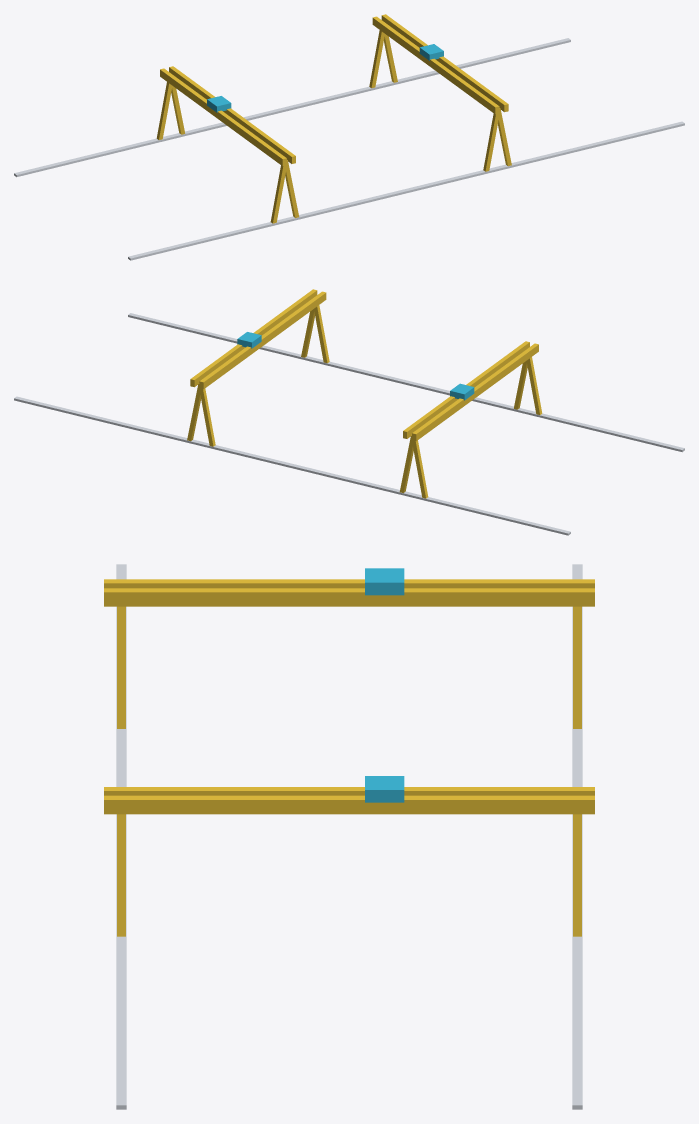
The model's file is bim-yard-s2.glb.
3 views of the same model, one above another, from view 1: azimuth 30°, elevation 25°; view 2: azimuth 150°, elevation 25°; view 3: azimuth 270°, elevation 25° (orthographic). The views are drawn at different scales.
Visible parts, largest first — view 1: CraneTrack_-26.0, CraneTrack_26.0, CraneGirderA_12.0, CraneGirderA_-44.0, CraneGirderB_12.0, CraneGirderB_-44.0, LegA_12.0_-26.0, LegA_-44.0_-26.0, LegA_12.0_26.0; view 2: CraneTrack_26.0, CraneTrack_-26.0, CraneGirderA_12.0, CraneGirderA_-44.0, CraneGirderB_12.0, CraneGirderB_-44.0, LegA_12.0_26.0, LegA_-44.0_26.0, LegA_12.0_-26.0, LegA_-44.0_-26.0; view 3: CraneGirderB_12.0, CraneGirderB_-44.0, CraneGirderA_-44.0, CraneGirderA_12.0, CraneTrack_-26.0, CraneTrack_26.0, Trolley_-44.0, LegB_-44.0_-26.0, LegB_-44.0_26.0, LegB_12.0_-26.0, LegB_12.0_26.0, Trolley_12.0.
Part boxes in pixels (<box>): CraneTrack_-26.0: <box>128,121,684,260</box>; CraneTrack_26.0: <box>14,38,570,177</box>; CraneGirderA_12.0: <box>372,16,499,114</box>; CraneGirderA_-44.0: <box>160,68,286,166</box>; CraneGirderB_12.0: <box>381,14,508,112</box>; CraneGirderB_-44.0: <box>169,66,295,163</box>; LegA_12.0_-26.0: <box>483,109,500,171</box>; LegA_-44.0_-26.0: <box>270,163,287,223</box>; LegA_12.0_26.0: <box>369,30,384,88</box>; CraneTrack_26.0: <box>14,396,570,535</box>; CraneTrack_-26.0: <box>128,313,684,452</box>; CraneGirderA_12.0: <box>199,291,326,389</box>; CraneGirderA_-44.0: <box>412,343,538,441</box>; CraneGirderB_12.0: <box>190,289,317,387</box>; CraneGirderB_-44.0: <box>403,341,529,438</box>; LegA_12.0_26.0: <box>199,386,215,446</box>; LegA_-44.0_26.0: <box>411,436,428,498</box>; LegA_12.0_-26.0: <box>314,305,329,363</box>; LegA_-44.0_-26.0: <box>526,357,542,414</box>; CraneGirderB_12.0: <box>104,795,594,814</box>; CraneGirderB_-44.0: <box>104,588,594,606</box>; CraneGirderA_-44.0: <box>104,579,594,588</box>; CraneGirderA_12.0: <box>104,787,594,795</box>; CraneTrack_-26.0: <box>116,564,126,1109</box>; CraneTrack_26.0: <box>572,564,582,1109</box>; Trolley_-44.0: <box>365,568,404,595</box>; LegB_-44.0_-26.0: <box>117,606,125,728</box>; LegB_-44.0_26.0: <box>573,606,581,728</box>; LegB_12.0_-26.0: <box>117,814,125,936</box>; LegB_12.0_26.0: <box>573,814,581,936</box>; Trolley_12.0: <box>365,776,404,802</box>.
Size of the model in its own units: 146 by 18.24 by 56.
